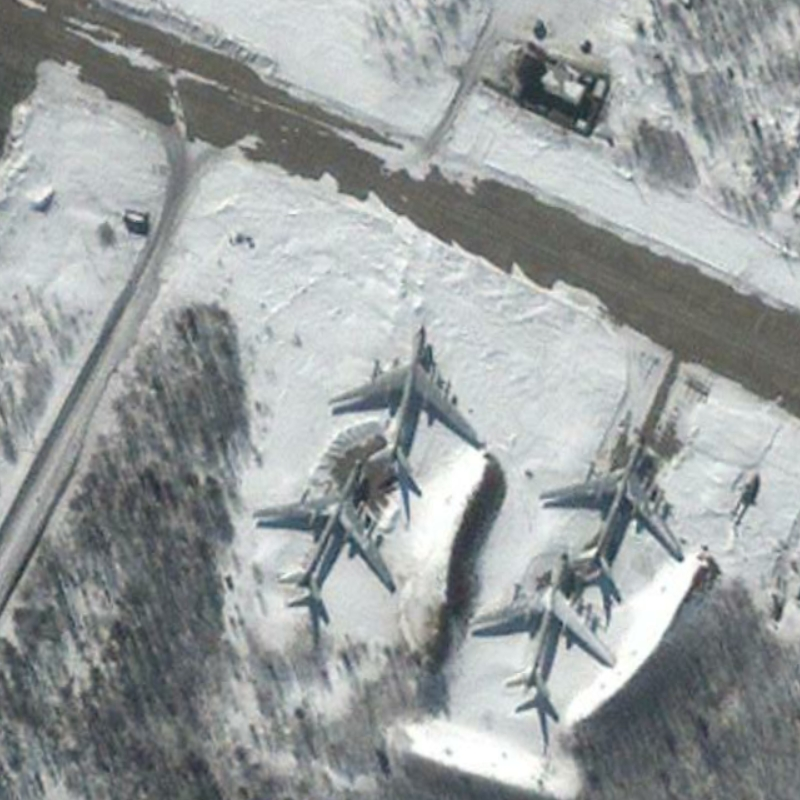A17: (322, 322, 481, 475), (463, 547, 618, 701), (535, 432, 687, 583), (249, 454, 401, 605)
